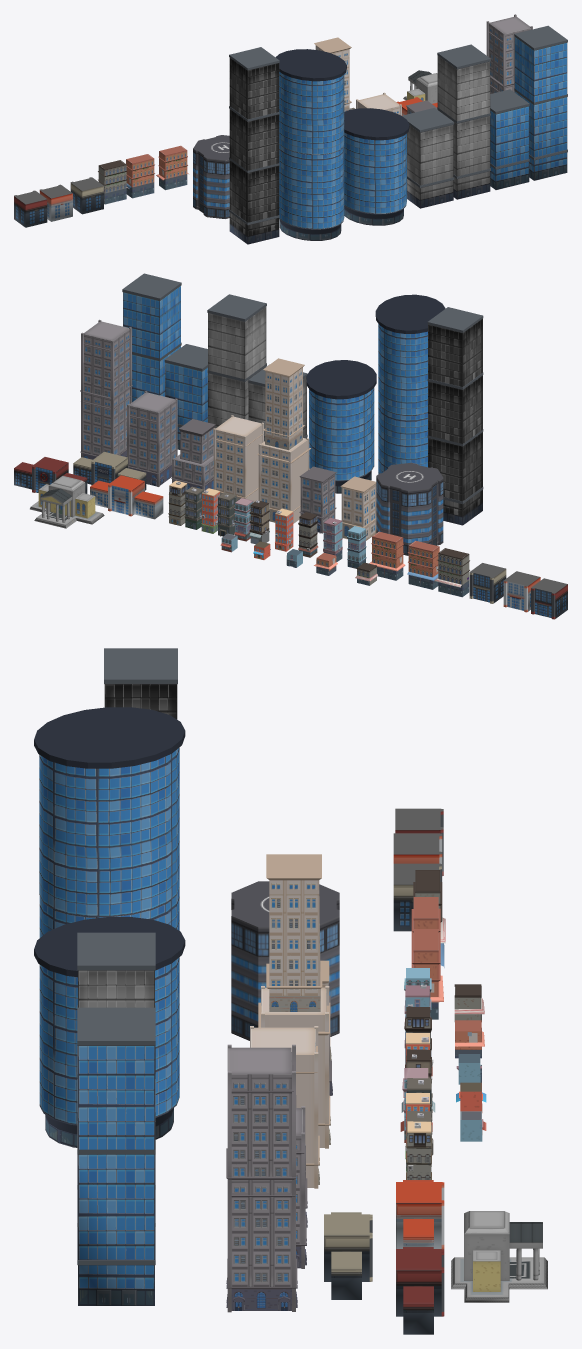
Rendered from Buildings_v1.fbx.
3 renders of one model, top to bottom at view 1: azimuth 30°, elevation 25°; view 2: azimuth 150°, elevation 25°; view 3: azimuth 270°, elevation 25°, orthographic. The views are drawn at different scales.
Visible parts, largest first — view 1: BLD 13.001, BLD 14, BLD 13, BLD 11, BLD 11 - p2.001, BLD 12.001, BLD 11.001, BLD 17, BLD 15 - 2, BLD 19, BLD_19-2, BLD 22-2 (+6 smaller); view 2: BLD 14, BLD 13.001, BLD 13, BLD 15 - 2, BLD 16 - 2, BLD 11 - p2.001, BLD 11, BLD 17, BLD 15, BLD 16, BLD 11.001, BLD 23 (+24 smaller); view 3: BLD 13.001, BLD 11, BLD 15 - 2, BLD 13, BLD 16 - 2, BLD 17, BLD 23, BLD 11 - p2.001, BLD 14, BLD 16, BLD 22.006, BLD 22 (+14 smaller).
Part boxes in pixels (bbox=[...]): BLD 13.001: bbox=[275, 49, 346, 240]; BLD 14: bbox=[229, 47, 279, 244]; BLD 13: bbox=[344, 108, 409, 225]; BLD 11: bbox=[514, 25, 567, 180]; BLD 11 - p2.001: bbox=[437, 44, 490, 199]; BLD 12.001: bbox=[402, 108, 454, 208]; BLD 11.001: bbox=[490, 89, 529, 189]; BLD 17: bbox=[193, 135, 229, 218]; BLD 15 - 2: bbox=[486, 14, 532, 93]; BLD 19: bbox=[156, 145, 188, 190]; BLD_19-2: bbox=[126, 154, 154, 198]; BLD 22-2: bbox=[14, 190, 47, 227]; BLD 14: bbox=[427, 307, 483, 525]; BLD 13.001: bbox=[375, 294, 445, 473]; BLD 13: bbox=[306, 360, 376, 493]; BLD 15 - 2: bbox=[80, 319, 132, 459]; BLD 16 - 2: bbox=[257, 358, 311, 523]; BLD 11 - p2.001: bbox=[207, 294, 266, 428]; BLD 11: bbox=[122, 273, 181, 402]; BLD 17: bbox=[376, 462, 443, 555]; BLD 15: bbox=[127, 391, 177, 486]; BLD 16: bbox=[213, 415, 263, 502]; BLD 11.001: bbox=[164, 344, 207, 449]; BLD 23: bbox=[30, 475, 104, 528]; BLD 13.001: bbox=[34, 707, 185, 937]; BLD 11: bbox=[77, 1007, 155, 1305]; BLD 15 - 2: bbox=[226, 1044, 297, 1312]; BLD 13: bbox=[34, 917, 185, 1147]; BLD 16 - 2: bbox=[258, 854, 330, 1148]; BLD 17: bbox=[231, 881, 339, 1040]; BLD 23: bbox=[451, 1211, 547, 1302]; BLD 11 - p2.001: bbox=[77, 932, 155, 1189]; BLD 14: bbox=[104, 648, 177, 719]; BLD 16: bbox=[250, 1026, 319, 1188]; BLD 22.006: bbox=[324, 1214, 372, 1281]; BLD 22: bbox=[396, 1249, 444, 1316].
Bounding box in the file's own units: 17874 × 6215 × 8096.
